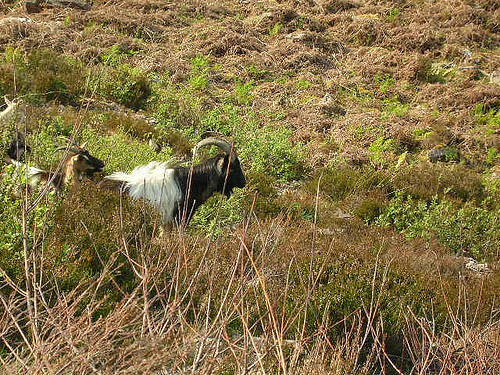goat: (105, 131, 248, 234), (9, 137, 105, 200), (1, 97, 28, 129)
